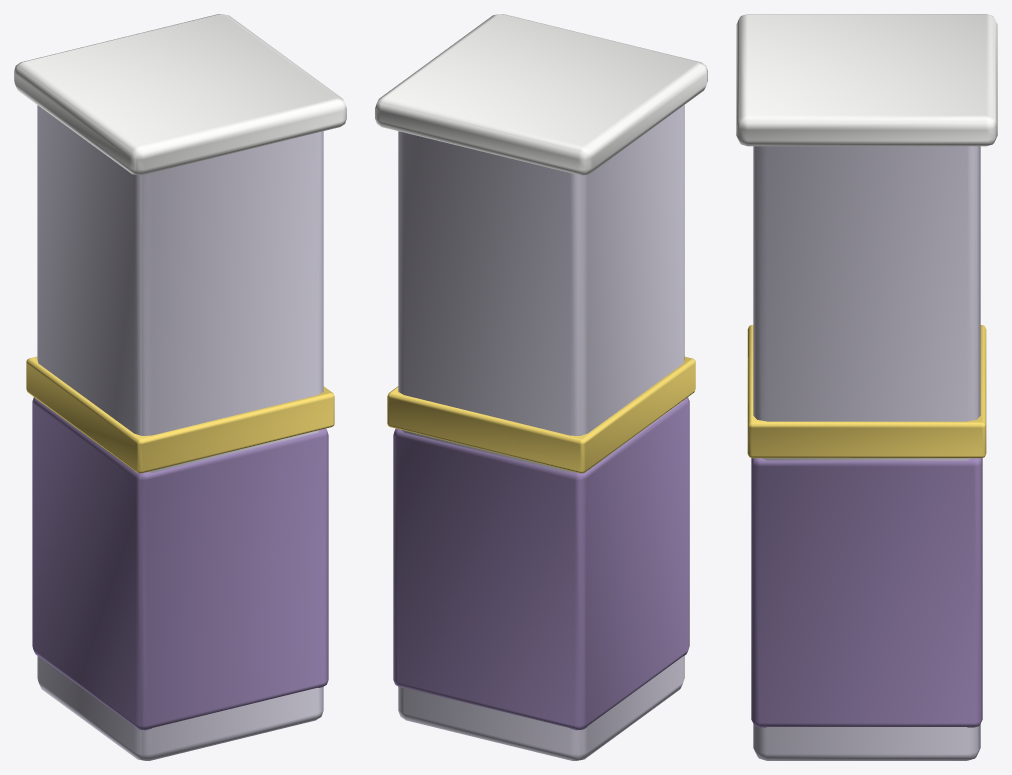
File: pared_esquina.glb
3 views of the same model, side by side, from view 1: azimuth 30°, elevation 25°; view 2: azimuth 150°, elevation 25°; view 3: azimuth 270°, elevation 25° (orthographic). The views are drawn at different scales.
Parts seen in each view (by area): view 1: pilar, pilar_zocalo, pilar_remate, pilar_franja; view 2: pilar, pilar_zocalo, pilar_remate, pilar_franja; view 3: pilar, pilar_zocalo, pilar_remate, pilar_franja.
Part boxes in pixels (x1,y1,x2,y2): pilar: (37, 105, 323, 760); pilar_zocalo: (32, 397, 328, 730); pilar_remate: (14, 14, 346, 175); pilar_franja: (26, 356, 334, 473); pilar: (398, 105, 684, 760); pilar_zocalo: (393, 397, 689, 730); pilar_remate: (375, 14, 707, 175); pilar_franja: (387, 356, 695, 473); pilar: (753, 146, 980, 760); pilar_zocalo: (751, 458, 982, 727); pilar_remate: (736, 14, 997, 146); pilar_franja: (747, 325, 986, 458).
Size of the model in its own units: 0.23 by 0.635 by 0.23.
